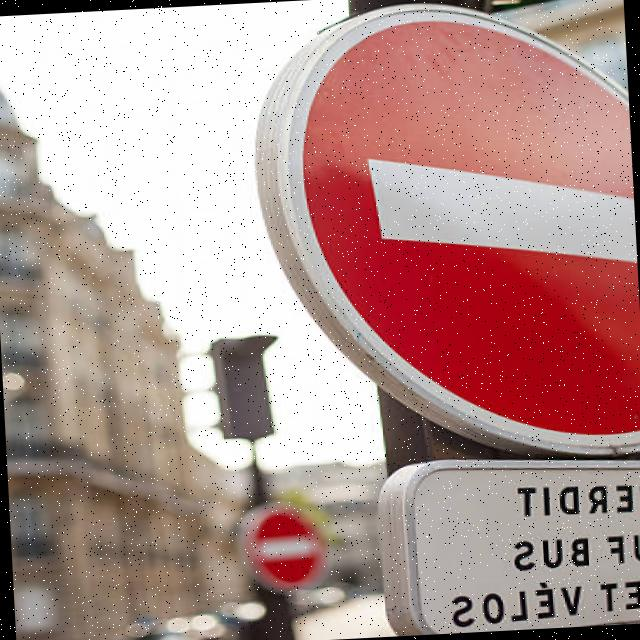do_not_enter: (229, 0, 640, 473)
